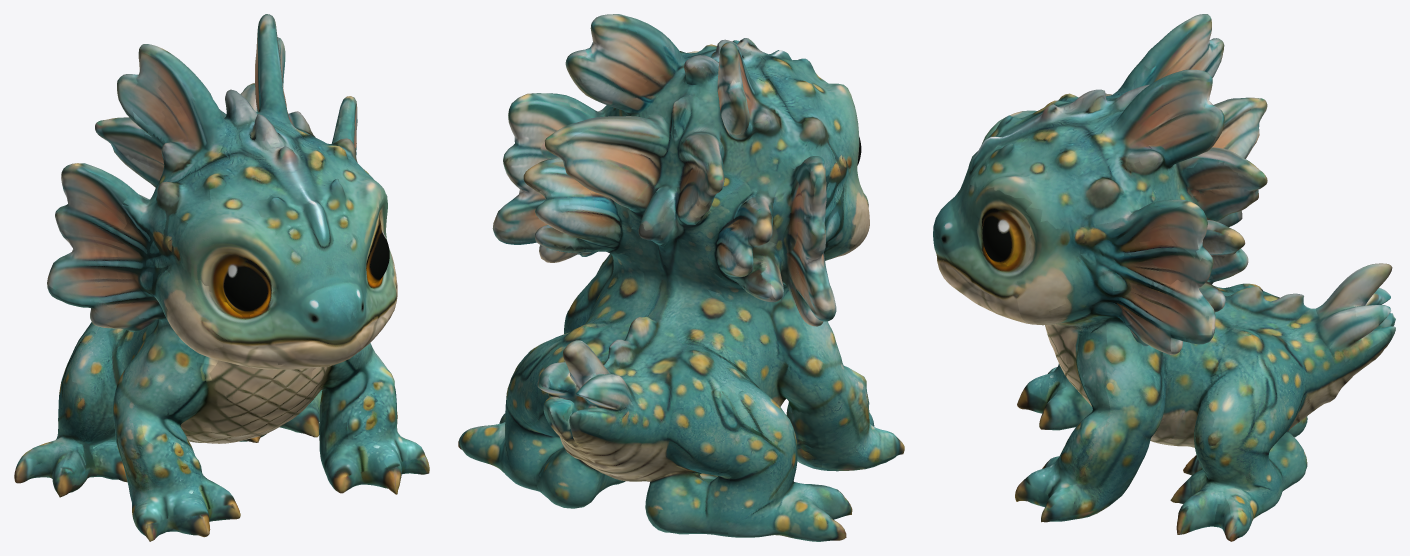
3 renders of one model, left to right at view 1: azimuth 30°, elevation 25°; view 2: azimuth 150°, elevation 25°; view 3: azimuth 270°, elevation 25°, orthographic. The views are drawn at different scales.
Visible parts, largest first — view 1: mesh_node; view 2: mesh_node; view 3: mesh_node.
Boxes of the visible parts, x1=… form: mesh_node: x1=14, y1=14, x2=429, y2=541; mesh_node: x1=458, y1=14, x2=904, y2=541; mesh_node: x1=933, y1=14, x2=1395, y2=541.
Bounding box in the file's own units: 1.76 × 1.97 × 2.
Materials: 1 (1 with a texture image).
